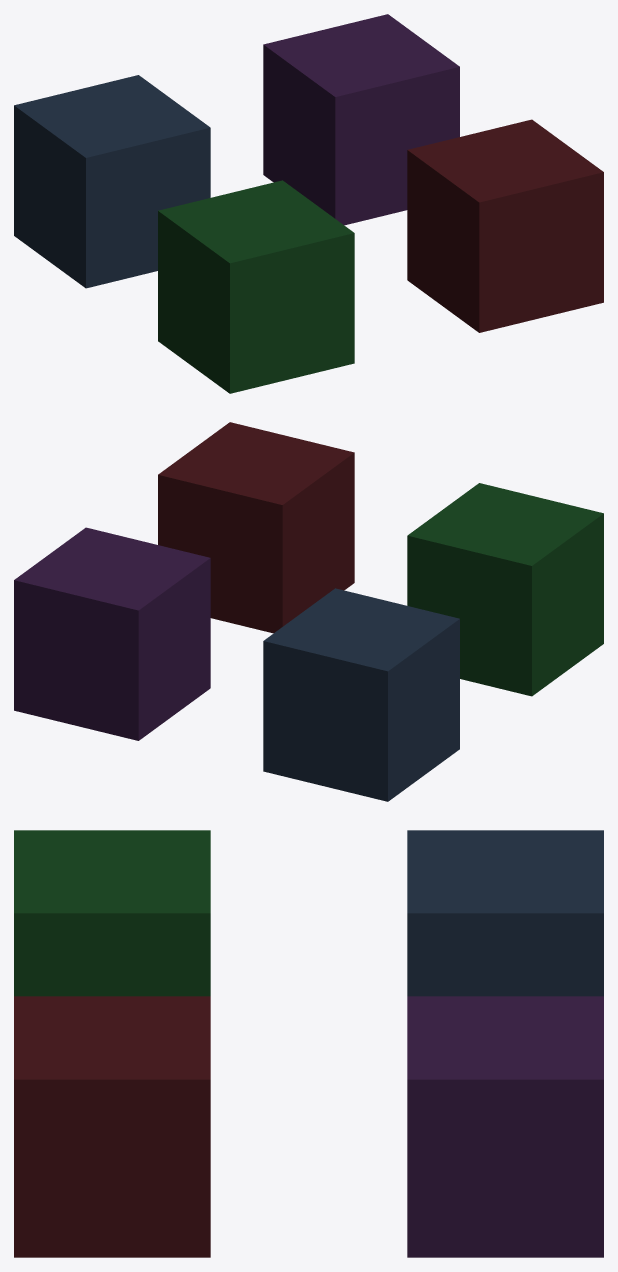
Rendered from tree.glb.
3 views of the same model, one above another, from view 1: azimuth 30°, elevation 25°; view 2: azimuth 150°, elevation 25°; view 3: azimuth 270°, elevation 25° (orthographic). The views are drawn at different scales.
Visible parts, largest first — view 1: Cube.001, Cube.003, Cube, Cube.002; view 2: Cube, Cube.002, Cube.001, Cube.003; view 3: Cube.002, Cube.003, Cube, Cube.001.
Boxes of the visible parts, x1,y1,x2,y2 form: Cube.001: [158, 180, 354, 393]; Cube.003: [407, 119, 603, 332]; Cube: [14, 75, 210, 288]; Cube.002: [263, 14, 459, 225]; Cube: [263, 588, 459, 801]; Cube.002: [14, 527, 210, 740]; Cube.001: [407, 483, 603, 696]; Cube.003: [158, 422, 354, 633]; Cube.002: [407, 996, 603, 1257]; Cube.003: [14, 996, 210, 1257]; Cube: [407, 830, 603, 996]; Cube.001: [14, 830, 210, 996].
Size of the model in its own units: 6 by 2 by 6.
